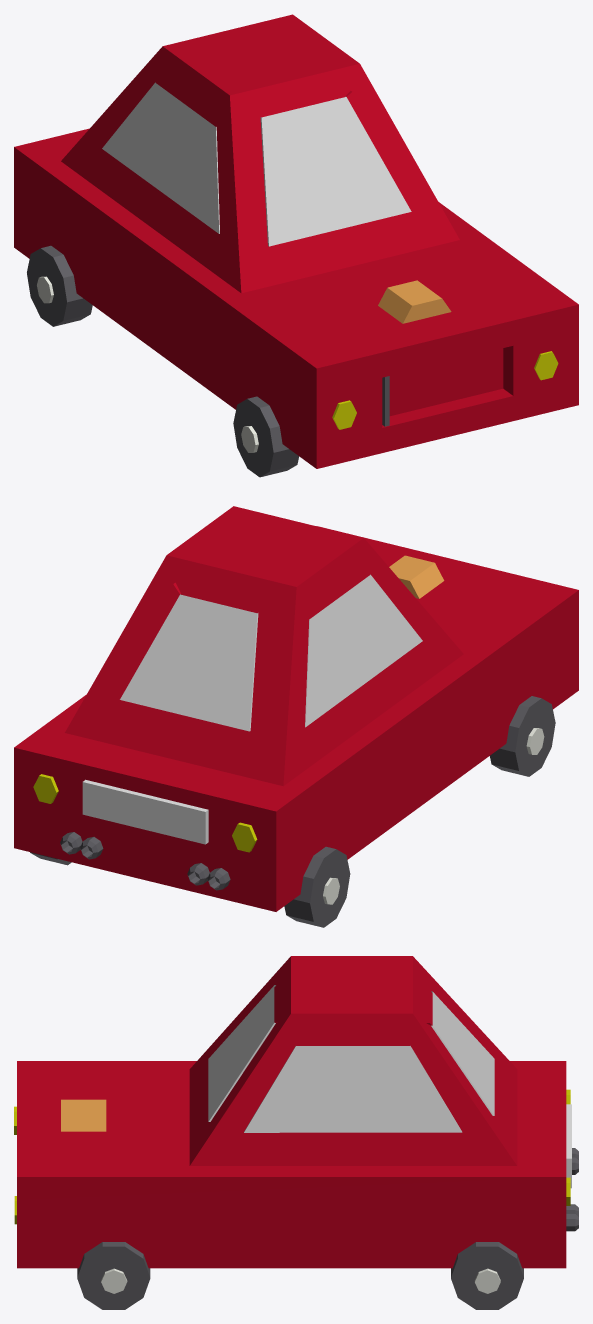
Rendered from Car.dae.
The picture shows the model from 3 angles, top to bottom: view 1: azimuth 30°, elevation 25°; view 2: azimuth 150°, elevation 25°; view 3: azimuth 270°, elevation 25°; orthographic projection. The views are drawn at different scales.
Parts seen in each view (by area): view 1: Cube, Cube_001, Cylinder_006, Cylinder_005; view 2: Cube_001, Cube, Cube_003, Cylinder_004, Cylinder_006, Cylinder_005, Cylinder_003, Cylinder_002; view 3: Cube, Cube_001, Cylinder_006, Cylinder_005, Cylinder_004, Cube_003.
Boxes of the visible parts, x1=… form: Cube: x1=14, y1=128, x2=578, y2=468; Cube_001: x1=27, y1=14, x2=459, y2=477; Cylinder_006: x1=378, y1=280, x2=451, y2=323; Cylinder_005: x1=37, y1=276, x2=258, y2=452; Cube_001: x1=30, y1=506, x2=555, y2=927; Cube: x1=14, y1=526, x2=578, y2=911; Cube_003: x1=82, y1=779, x2=208, y2=844; Cylinder_004: x1=60, y1=832, x2=230, y2=890; Cylinder_006: x1=389, y1=555, x2=444, y2=598; Cylinder_005: x1=323, y1=728, x2=544, y2=904; Cylinder_003: x1=33, y1=774, x2=58, y2=803; Cylinder_002: x1=232, y1=822, x2=257, y2=852; Cube: x1=17, y1=1061, x2=566, y2=1268; Cube_001: x1=77, y1=956, x2=523, y2=1309; Cylinder_006: x1=61, y1=1099, x2=106, y2=1131; Cylinder_005: x1=101, y1=1268, x2=500, y2=1293; Cylinder_004: x1=566, y1=1148, x2=578, y2=1231; Cube_003: x1=566, y1=1104, x2=571, y2=1188.
Bounding box in the file's own units: 3.33 × 6.17 × 3.15.
